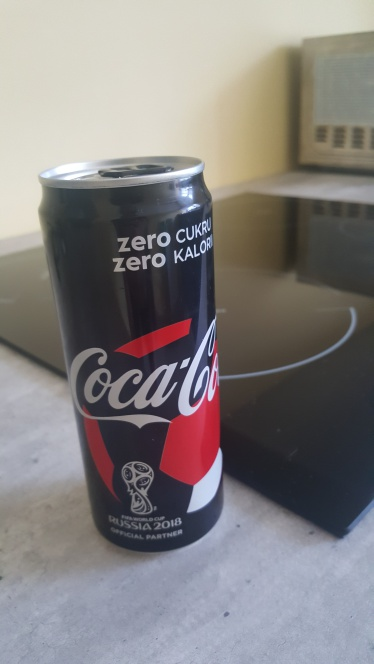colazero: (34, 148, 236, 558)
